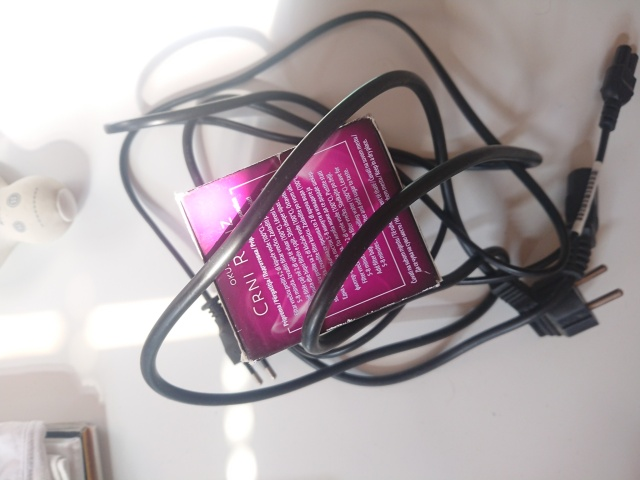Franck Black Currant Tea 60g: (170, 111, 446, 366)
